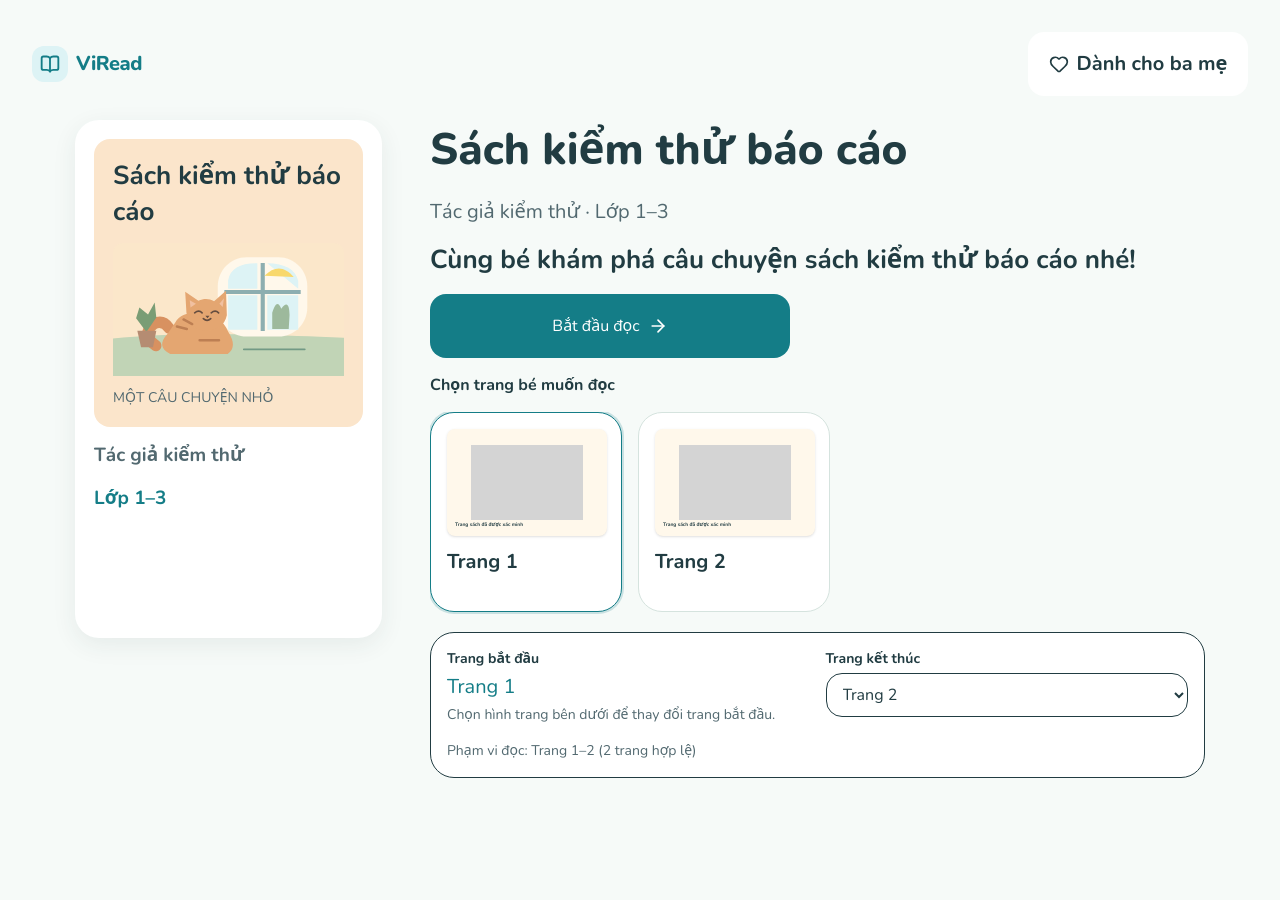
Scenario: BookDetailScreen with real API adapters › selects stored verified previews but does not invent a session when Reading is unavailable
The width and height of the screenshot is (1280, 900).
Expected: the heading "Sách kiểm thử báo cáo" is shown, [430, 120, 908, 180]
Click the button with aria-label "Chọn trang 2".
click(734, 512)  # box [638, 412, 830, 612]
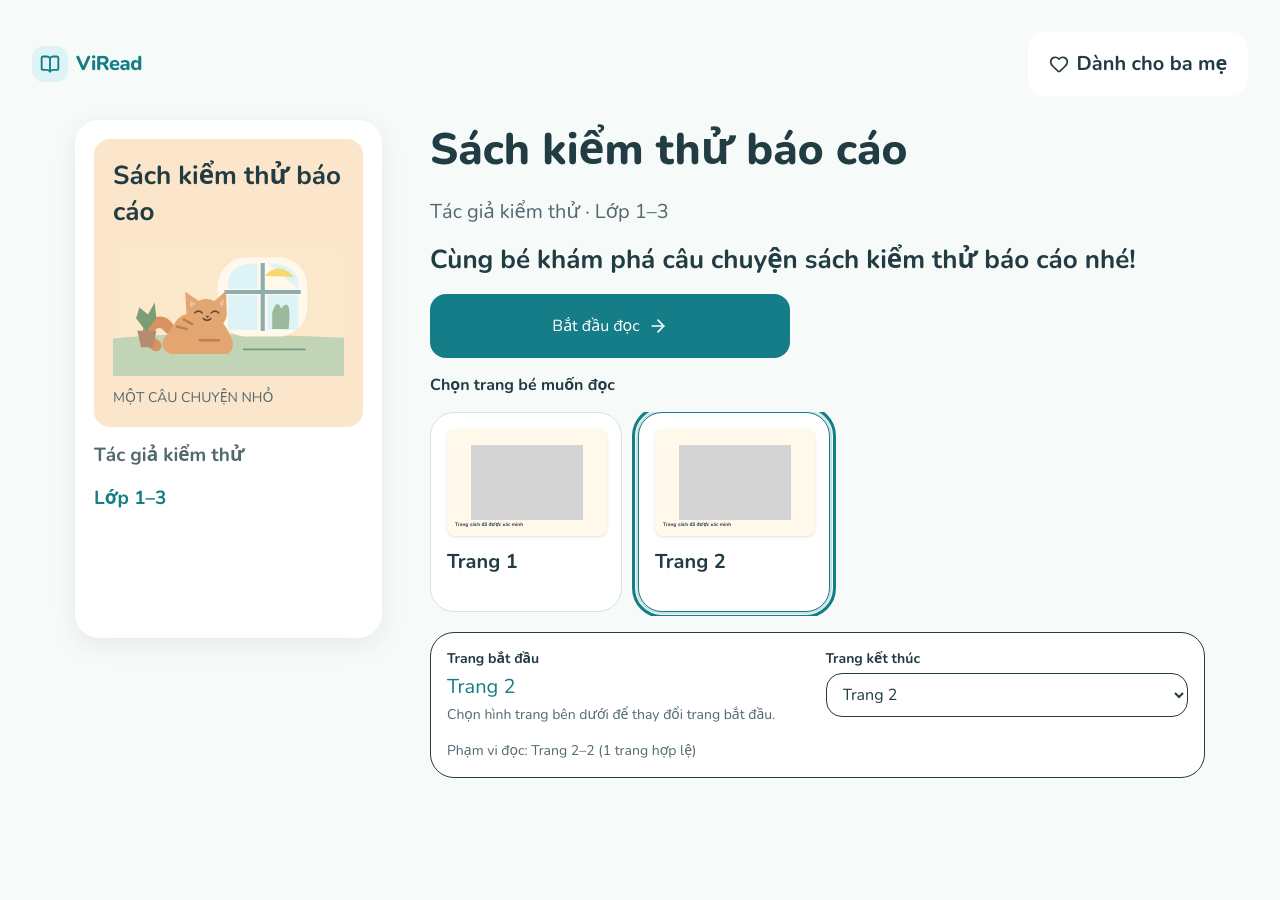
Expected: the dropdown labelled "Trang kết thúc" shows "Trang 2", [826, 673, 1188, 717]
Expected: the text "Phạm vi đọc: Trang 2–2 (1 trang hợp lệ)" is shown, [447, 741, 696, 760]
Click the button "Bắt đầu đọc".
click(610, 326)  # box [430, 294, 790, 358]
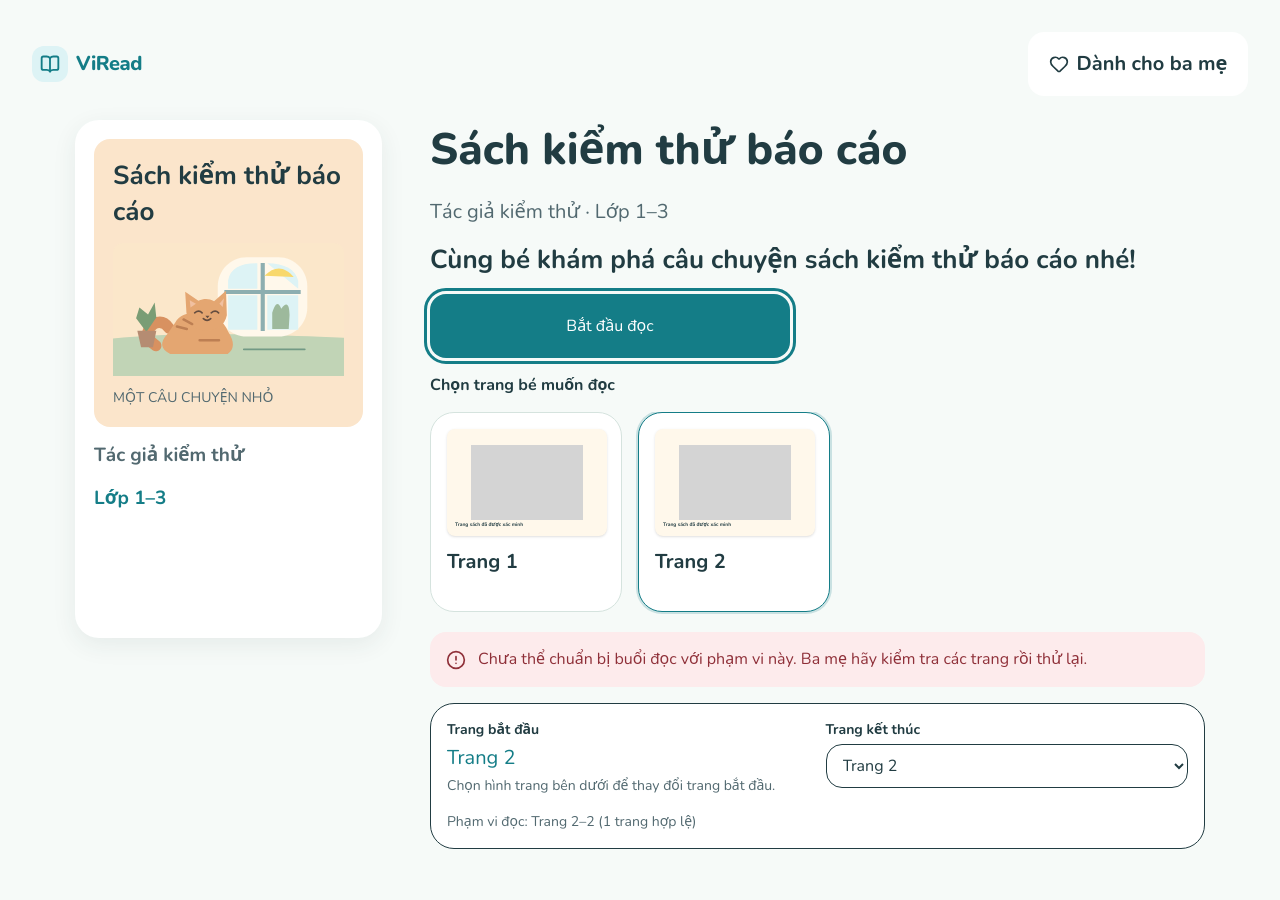
Expected: the message shows "Chưa thể chuẩn bị buổi đọc", [478, 648, 1087, 670]
